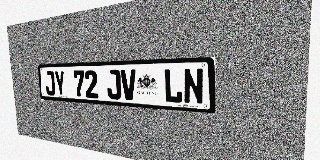2: (84, 70, 98, 98)
7: (73, 70, 86, 97)
J: (106, 70, 121, 100), (44, 71, 56, 96)
L: (163, 68, 183, 104)
N: (183, 68, 204, 105)
V: (120, 69, 137, 101)
Y: (54, 71, 66, 96)
